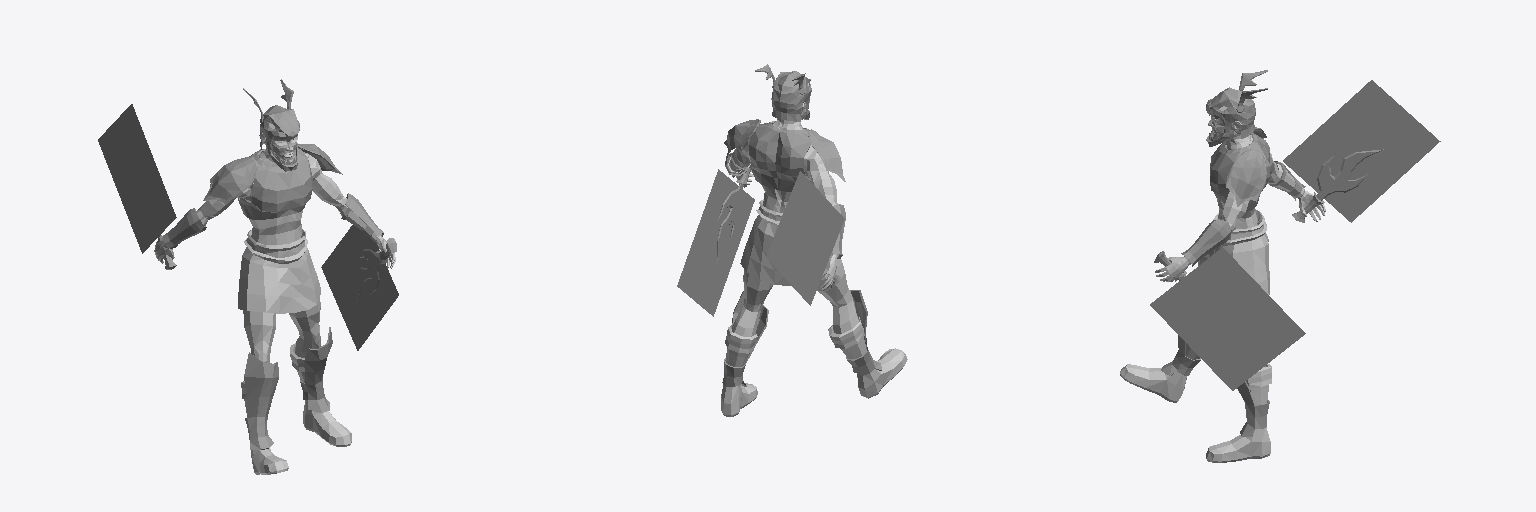
Rendered from shaolin_right.obj.
3 renders of one model, left to right at view 1: azimuth 30°, elevation 25°; view 2: azimuth 150°, elevation 25°; view 3: azimuth 270°, elevation 25°, orthographic.
Visible parts, largest first — view 1: perseu_body.012, Armadura_body.002, Plane.001, Plane.000_Plane.002, Arma.001_body.004; view 2: perseu_body.012, Armadura_body.002, Plane.001, Plane.000_Plane.002, Arma.001_body.004; view 3: Plane.000_Plane.002, Plane.001, perseu_body.012, Armadura_body.002, Arma_body.003.
Part boxes in pixels (x1,y1,x2,y2): perseu_body.012: (154,133,395,474); Armadura_body.002: (162,79,383,449); Plane.001: (98,104,176,253); Plane.000_Plane.002: (321,225,398,350); Arma.001_body.004: (357,238,396,300); perseu_body.012: (721,98,907,416); Armadura_body.002: (722,64,881,386); Plane.001: (766,171,844,305); Plane.000_Plane.002: (677,169,754,316); Arma.001_body.004: (717,163,750,264); Plane.000_Plane.002: (1150,247,1305,390); Plane.001: (1283,80,1440,222); perseu_body.012: (1120,116,1325,462); Armadura_body.002: (1161,70,1305,436); Arma_body.003: (1292,149,1383,222).
Bounding box in the file's own units: 0.9184 × 1.87 × 1.54.